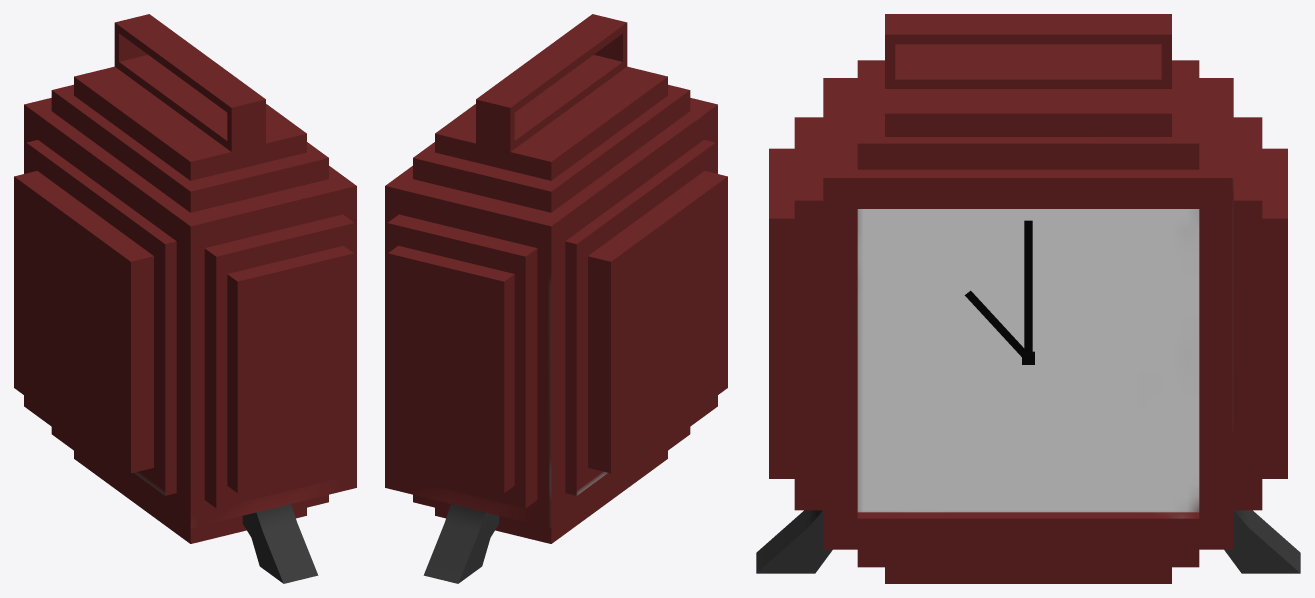
Rendered from Mini Alarm Clock.fbx.
3 views of the same model, side by side, from view 1: azimuth 30°, elevation 25°; view 2: azimuth 150°, elevation 25°; view 3: azimuth 270°, elevation 25° (orthographic). The views are drawn at different scales.
Parts seen in each view (by area): view 1: Mini_alarm_Clock; view 2: Mini_alarm_Clock; view 3: Mini_alarm_Clock, Long_Arm, Shortm_Arm.
Boxes of the visible parts, left/top/right/bottom form: Mini_alarm_Clock: left=14, top=14, right=356, bottom=583; Mini_alarm_Clock: left=385, top=14, right=727, bottom=583; Mini_alarm_Clock: left=756, top=14, right=1300, bottom=583; Long_Arm: left=1024, top=220, right=1032, bottom=352; Shortm_Arm: left=964, top=290, right=1027, bottom=356.
Size of the model in its own units: 5.67 by 11.8 by 10.81.
Materials: 1 (1 with a texture image).
